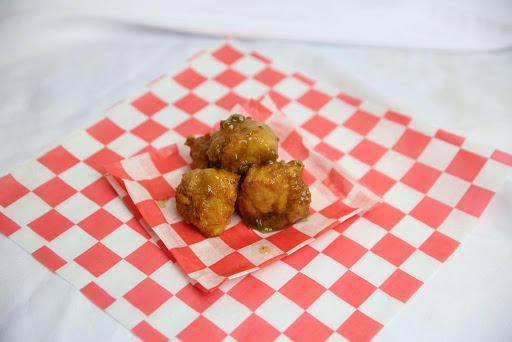curry: (3, 7, 504, 342)
salad: (236, 160, 312, 234), (174, 168, 240, 238)
